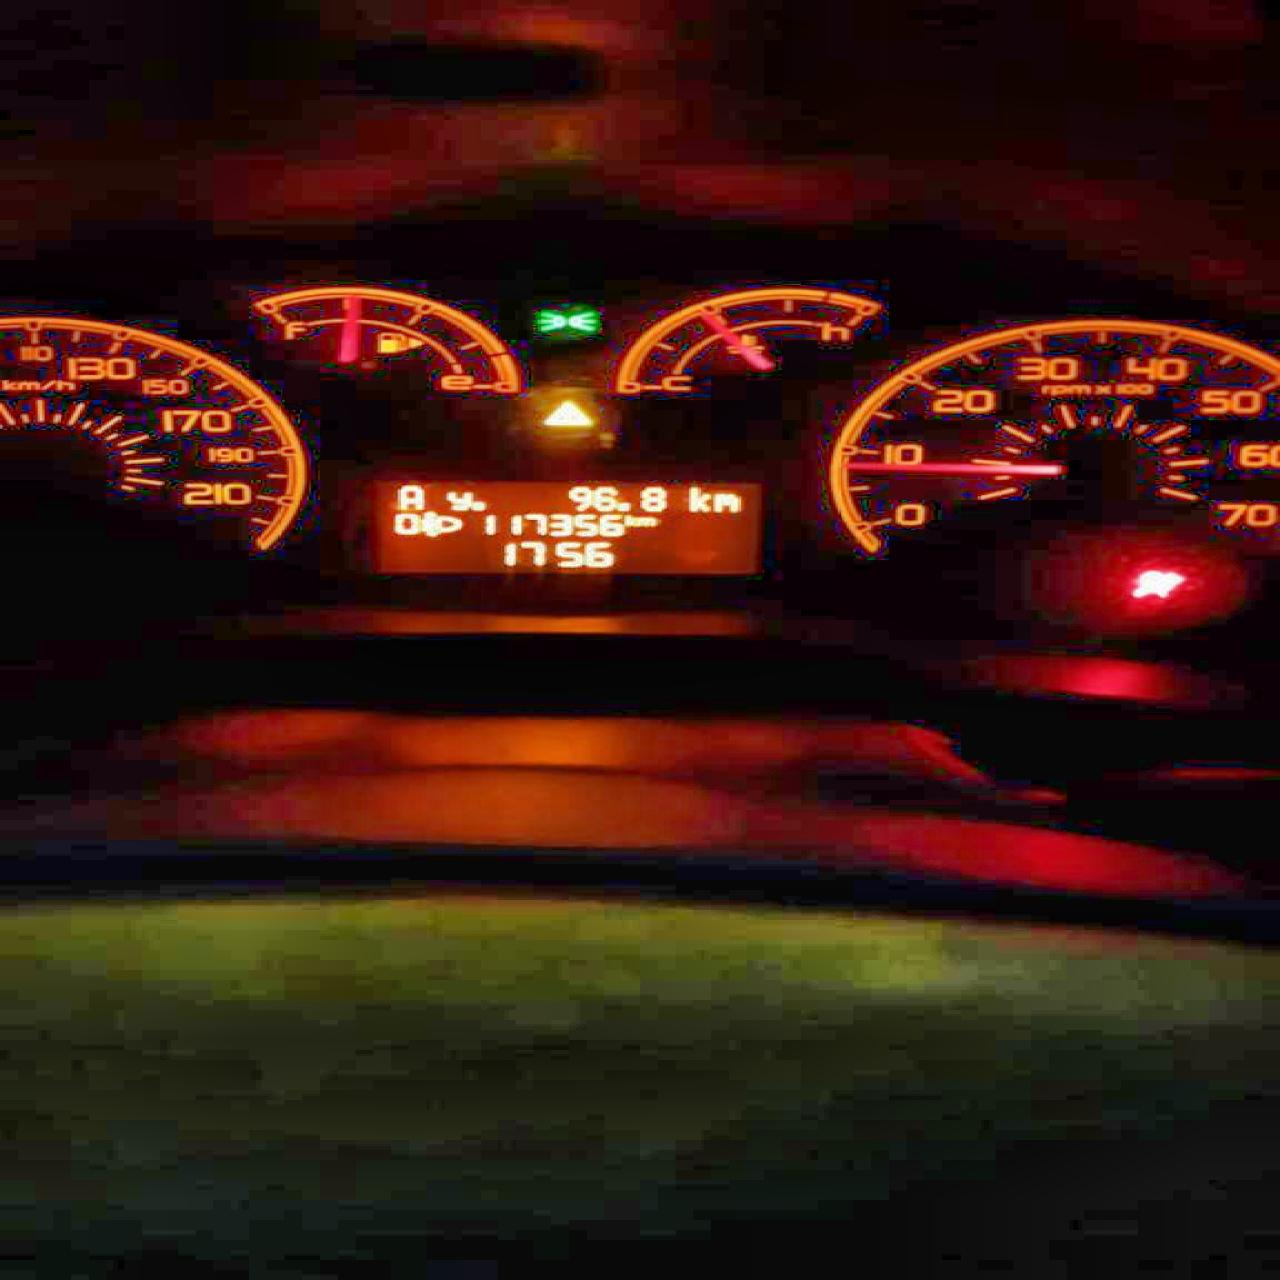-: (613, 499, 631, 512), (471, 498, 485, 511)
0: (389, 511, 418, 535)
1: (476, 511, 501, 538), (502, 511, 522, 538), (496, 540, 513, 567)
3: (546, 512, 571, 538)
5: (551, 540, 583, 568), (571, 512, 598, 538)
6: (583, 540, 615, 567), (595, 512, 622, 538), (591, 484, 615, 511)
7: (516, 540, 546, 565), (523, 511, 549, 537)
8: (635, 483, 669, 512)
9: (565, 484, 591, 511)
X: (392, 483, 427, 511), (685, 483, 712, 512), (442, 488, 471, 512), (712, 491, 737, 512), (635, 515, 655, 526), (622, 512, 635, 526)
odometer: (367, 472, 769, 579)
